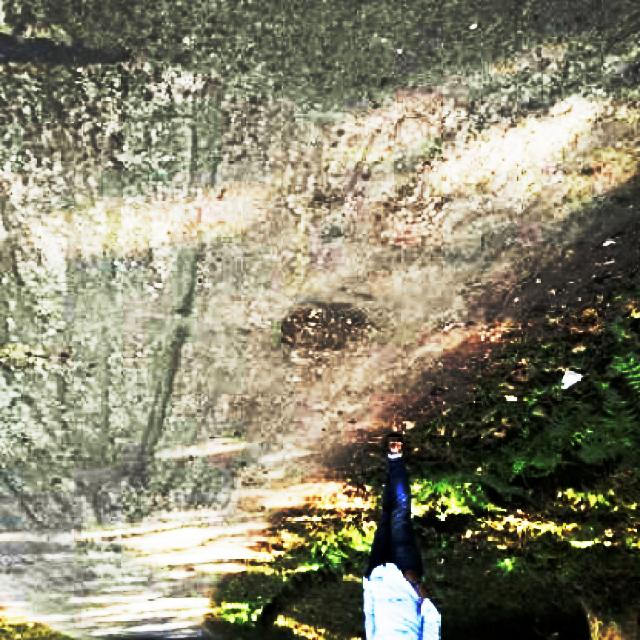pothole: (280, 300, 365, 357)
